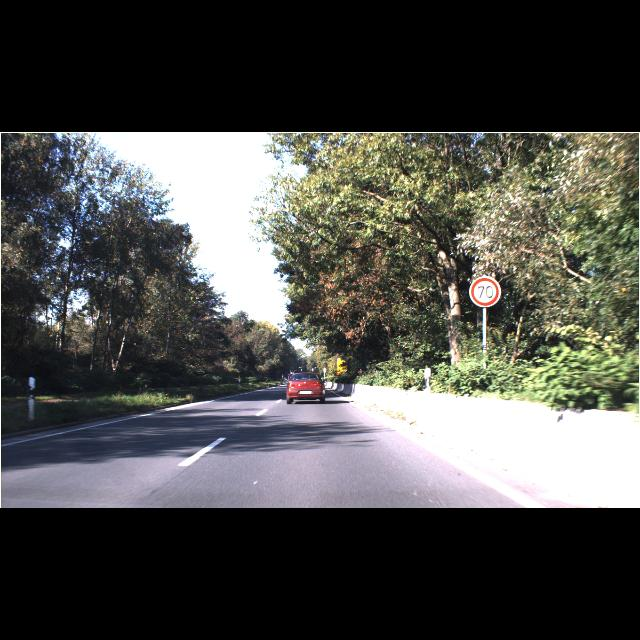prohibitory: (470, 276, 500, 308)
